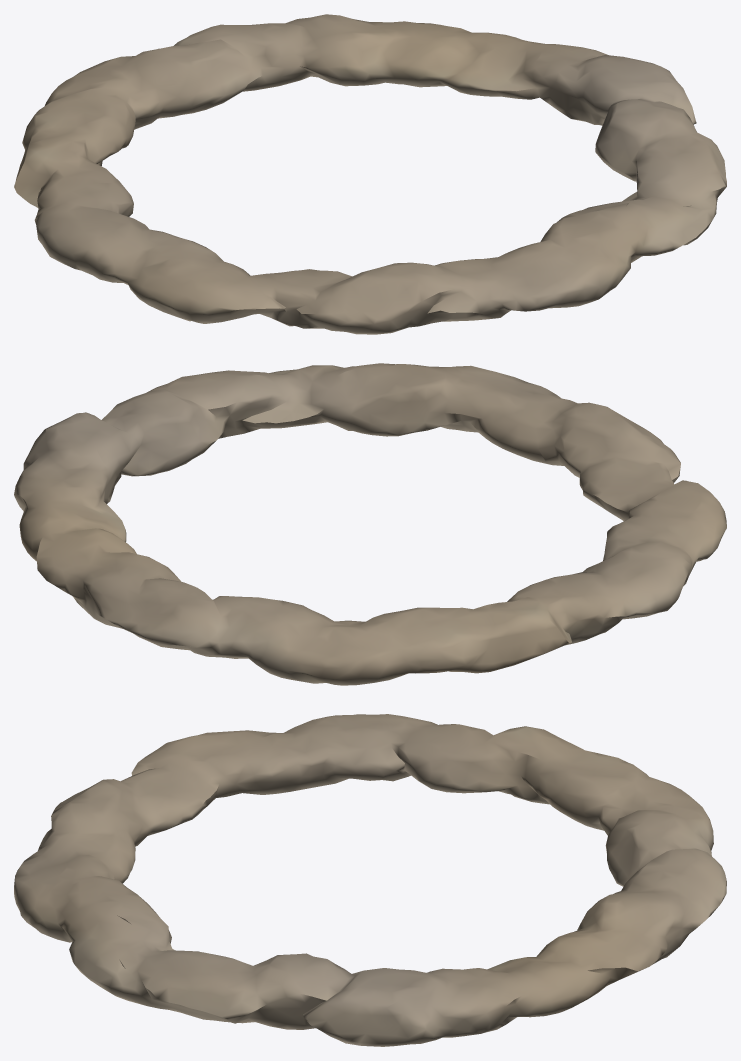
File: cave_pool_rim.7f8b7b12.glb
3 renders of one model, top to bottom at view 1: azimuth 30°, elevation 25°; view 2: azimuth 150°, elevation 25°; view 3: azimuth 270°, elevation 25°, orthographic.
Visible parts, largest first — view 1: cave_pool_rim; view 2: cave_pool_rim; view 3: cave_pool_rim.
Boxes of the visible parts, x1,y1,x2,y2 form: cave_pool_rim: (14,14,726,334); cave_pool_rim: (14,363,726,685); cave_pool_rim: (14,714,726,1046).
Bounding box in the file's own units: 3.42 × 0.302 × 3.34.
